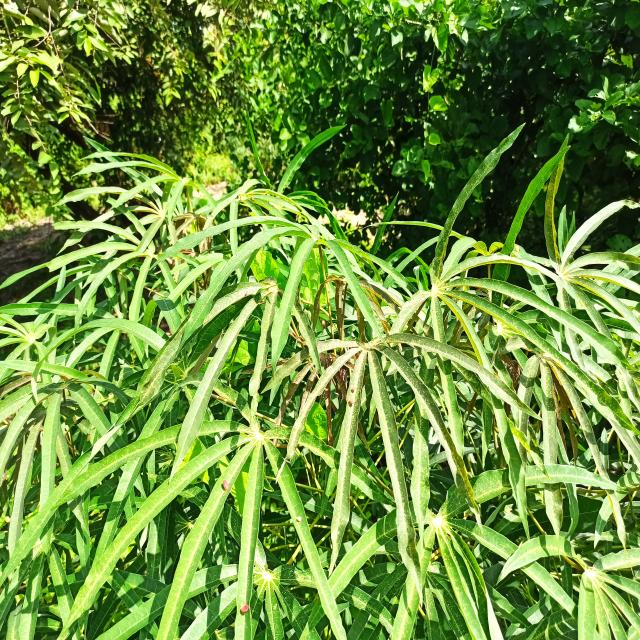Maleza: (217, 0, 631, 175), (0, 0, 273, 127)
Mosca: (212, 471, 240, 499), (231, 590, 260, 617), (346, 382, 364, 421), (180, 240, 204, 268), (58, 371, 76, 390)
